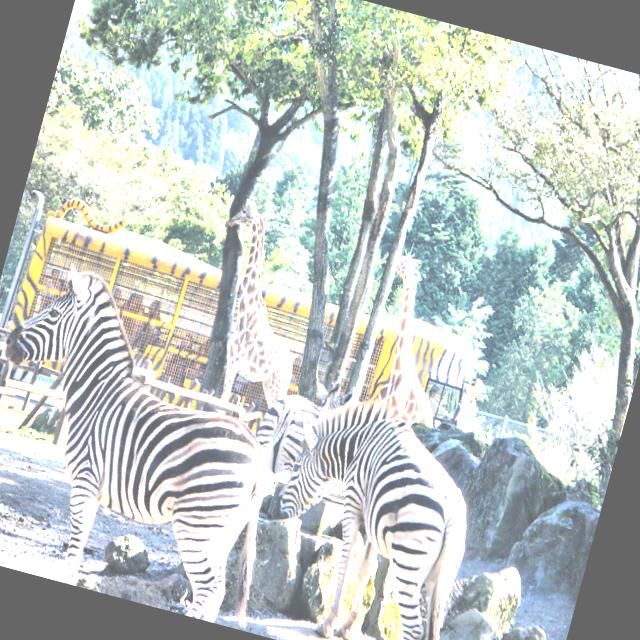Vehicle: (5, 191, 498, 462)
